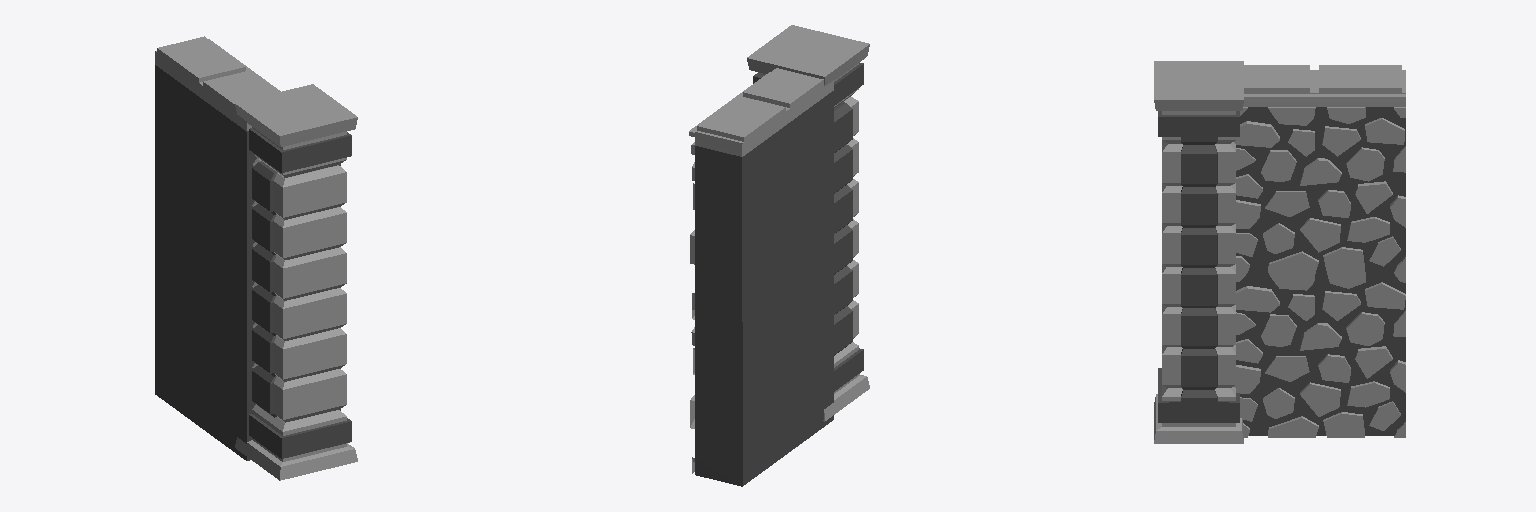
File: TriangleWall.obj
The picture shows the model from 3 angles: view 1: azimuth 30°, elevation 25°; view 2: azimuth 150°, elevation 25°; view 3: azimuth 270°, elevation 25°; orthographic projection.
Parts seen in each view (by area): view 1: TriangleWall_ColumnWall.049_Cube.009; view 2: TriangleWall_ColumnWall.049_Cube.009; view 3: TriangleWall_ColumnWall.049_Cube.009.
Part boxes in pixels (left/top/right/bottom): TriangleWall_ColumnWall.049_Cube.009: left=155, top=36, right=357, bottom=480; TriangleWall_ColumnWall.049_Cube.009: left=689, top=25, right=869, bottom=486; TriangleWall_ColumnWall.049_Cube.009: left=1154, top=61, right=1405, bottom=443.
Size of the model in its own units: 1.01 by 4.34 by 2.83.